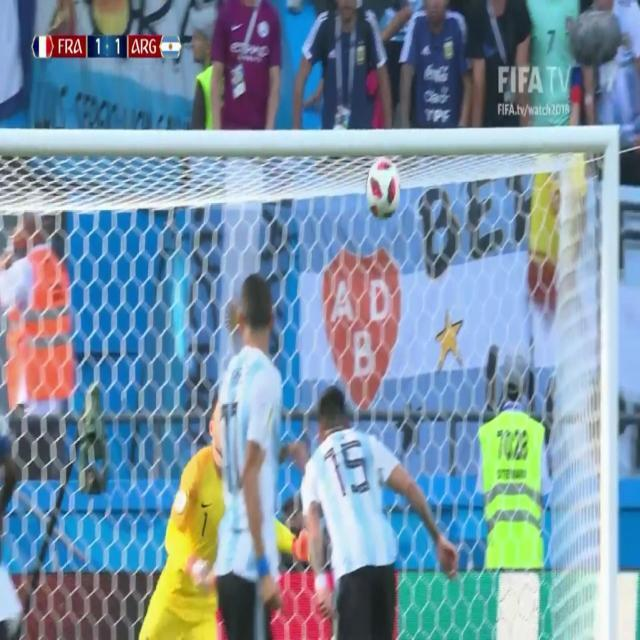ball: (363, 152, 403, 221)
goalkeeper: (129, 387, 316, 640)
player: (273, 392, 451, 632), (207, 267, 312, 640)
